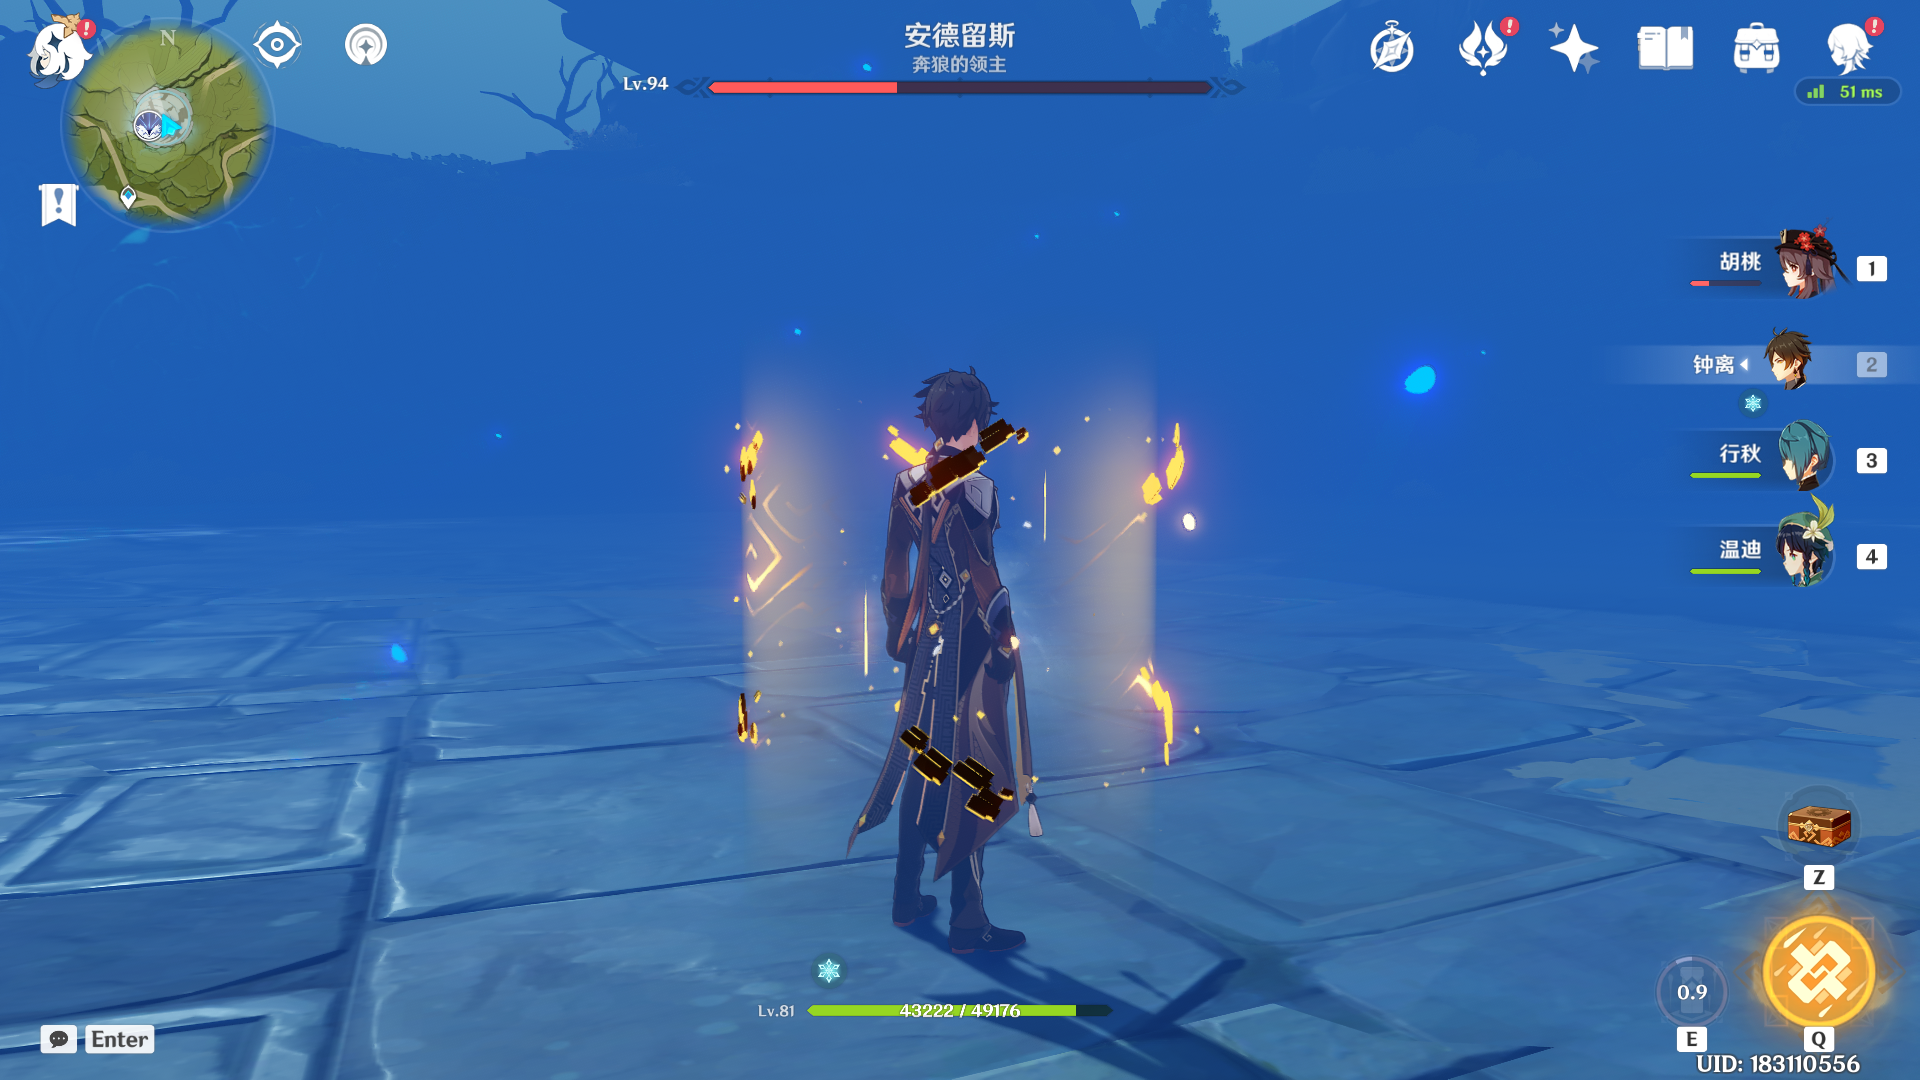character: (767, 323, 1149, 975)
